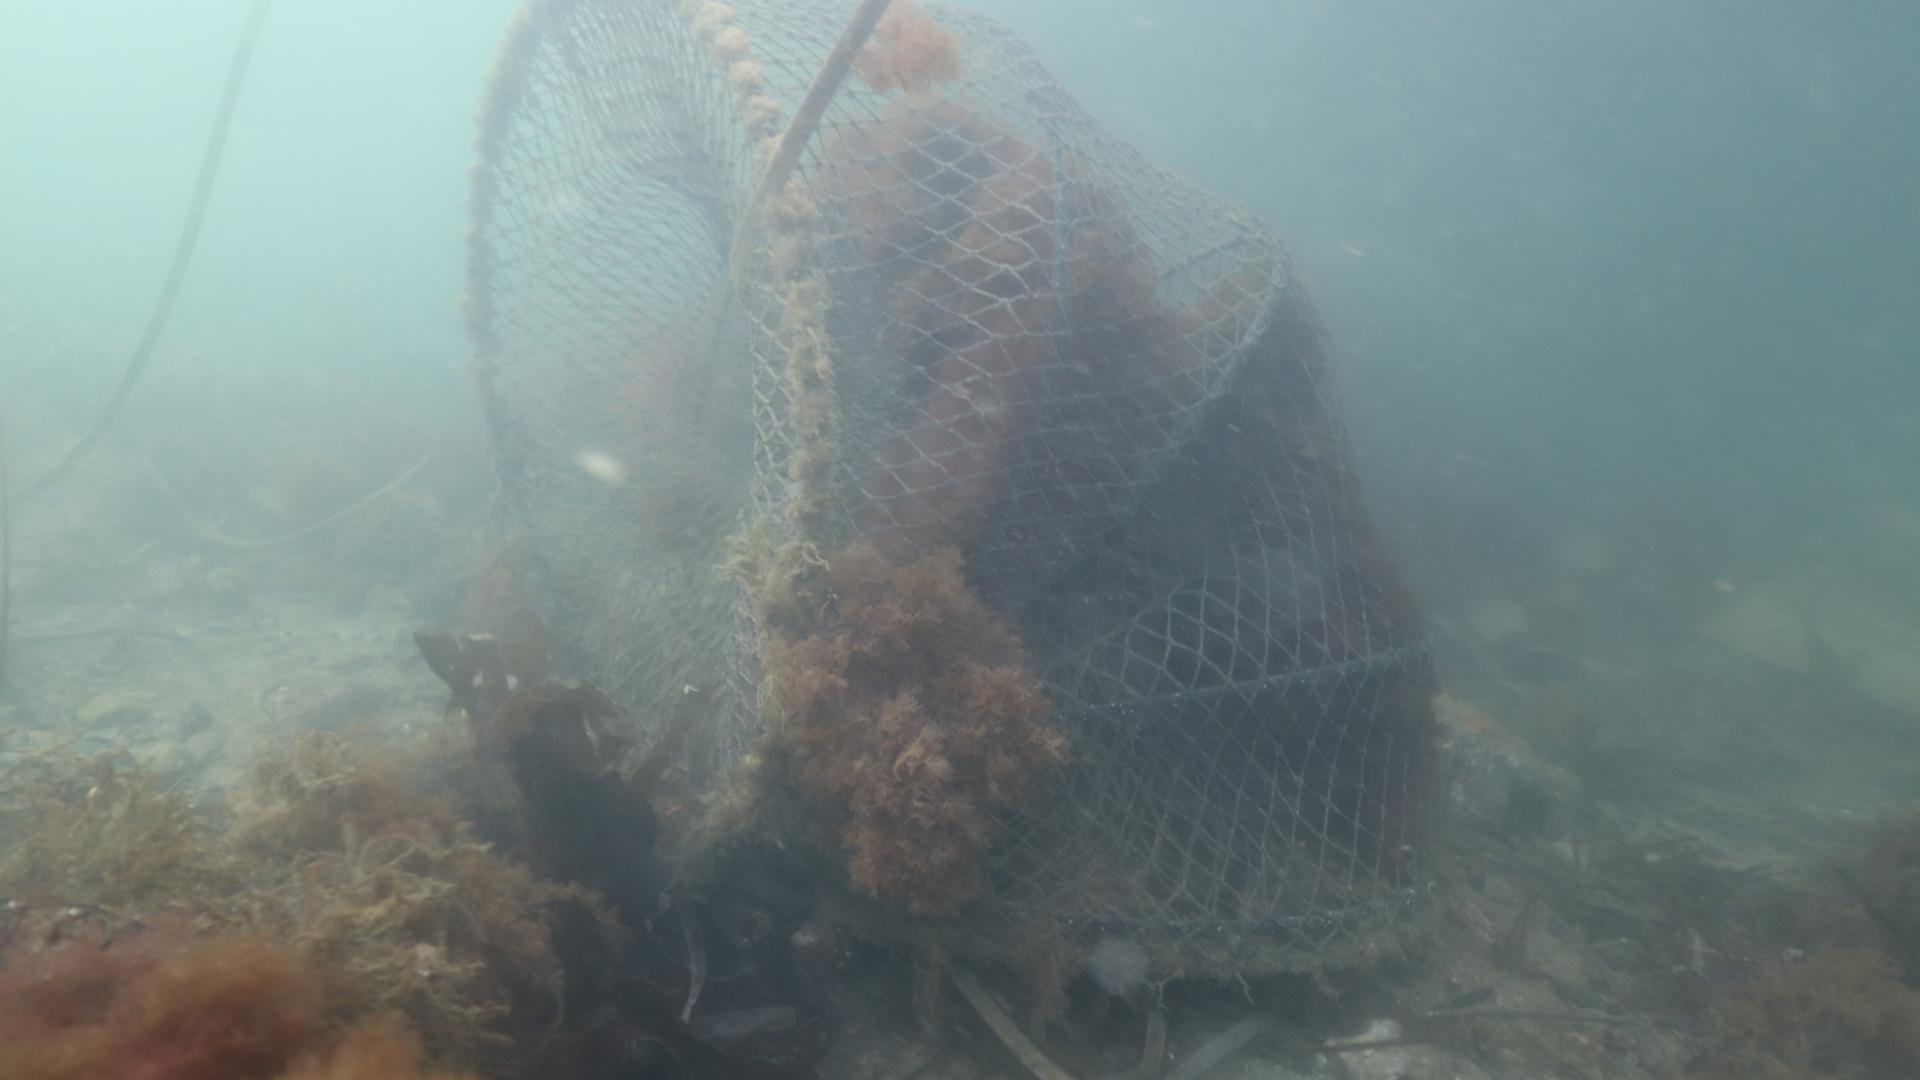spring fish trap: (465, 0, 1458, 990)
